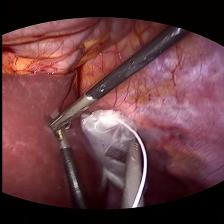Specimen Bag: (80, 108, 142, 208), (44, 100, 80, 144)
